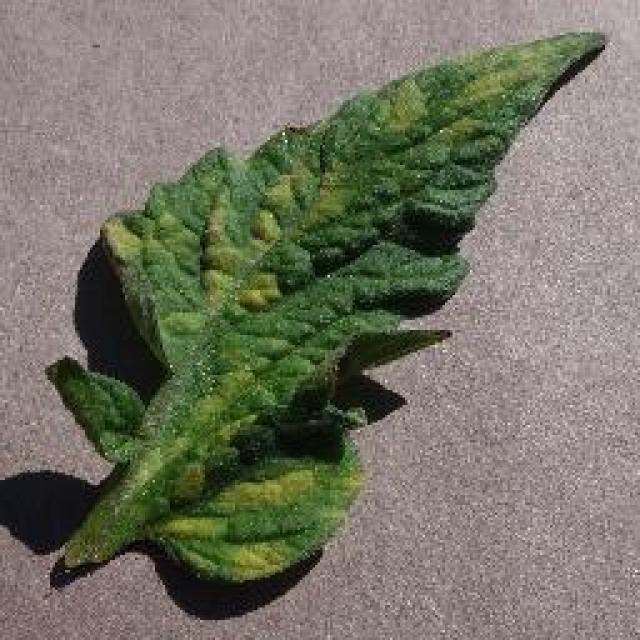Tomato mold leaf: (52, 30, 610, 582)
